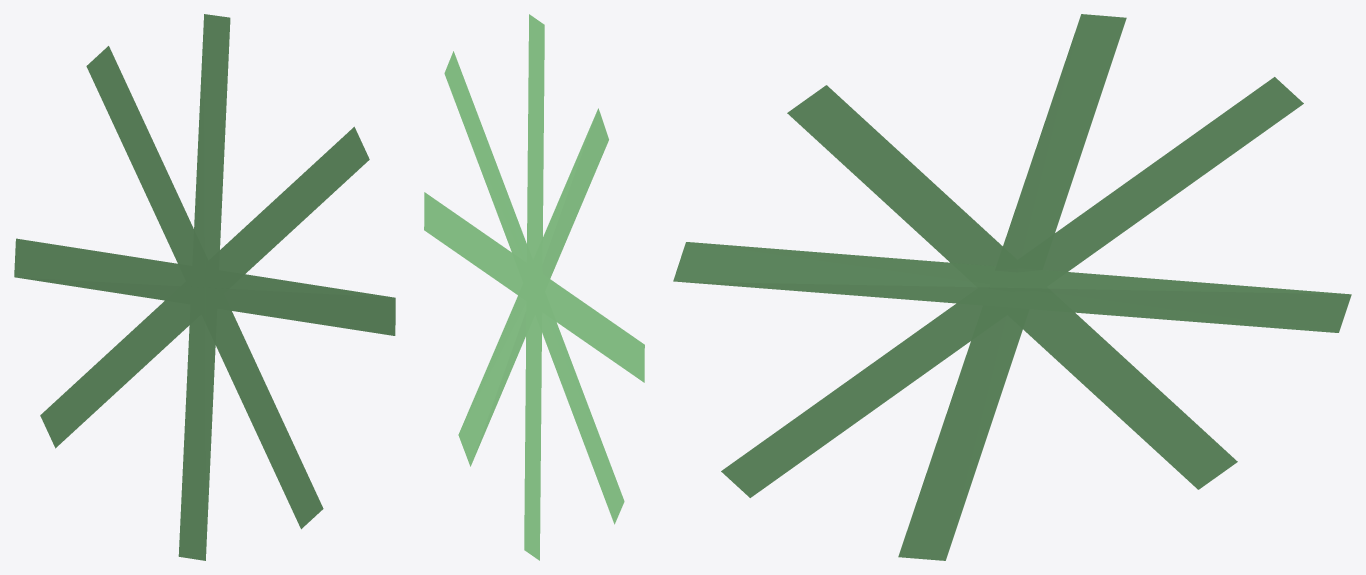
The model's file is GreatDirhombicosidodecacronF.obj.
The picture shows the model from 3 angles, left to right: view 1: azimuth 30°, elevation 25°; view 2: azimuth 150°, elevation 25°; view 3: azimuth 270°, elevation 25°; orthographic projection. The views are drawn at different scales.
Bounding box in the file's own units: 4.58 × 13.43 × 13.49.
